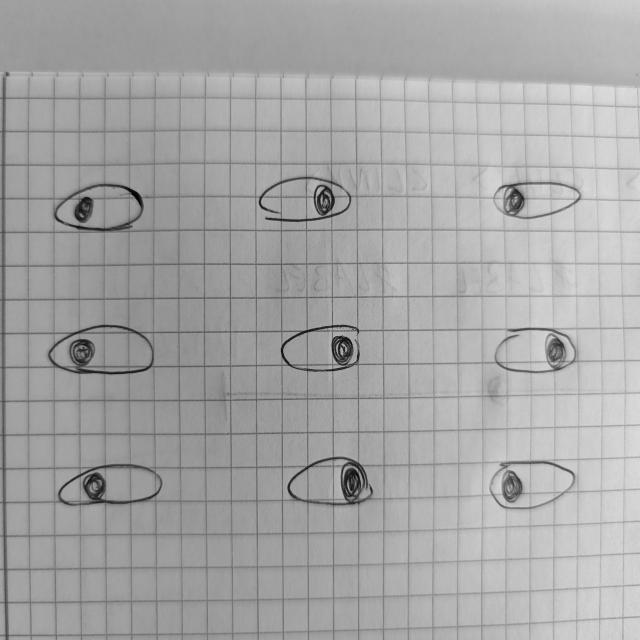toggle: (44, 322, 160, 378), (253, 172, 359, 224), (56, 458, 166, 508), (48, 180, 150, 233), (483, 457, 581, 512), (282, 452, 378, 508), (278, 319, 368, 375), (490, 322, 581, 376), (488, 177, 586, 221)
